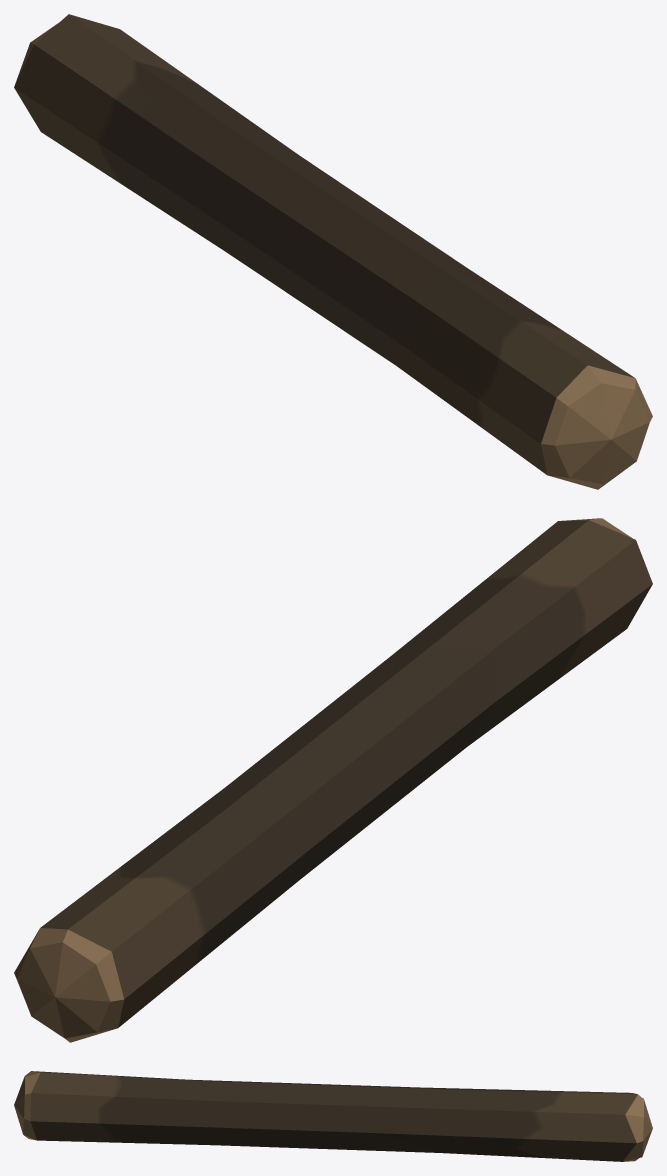
The model's file is prop_log.gltf.
3 renders of one model, top to bottom at view 1: azimuth 30°, elevation 25°; view 2: azimuth 150°, elevation 25°; view 3: azimuth 270°, elevation 25°, orthographic. The views are drawn at different scales.
Visible parts, largest first — view 1: prop_log; view 2: prop_log; view 3: prop_log.
Part boxes in pixels (bbox=[...]): prop_log: bbox=[14, 14, 652, 489]; prop_log: bbox=[14, 518, 652, 1042]; prop_log: bbox=[14, 1071, 652, 1161].
Bounding box in the file's own units: 0.6253 × 0.7665 × 5.12.
1 material, 1 textured.
